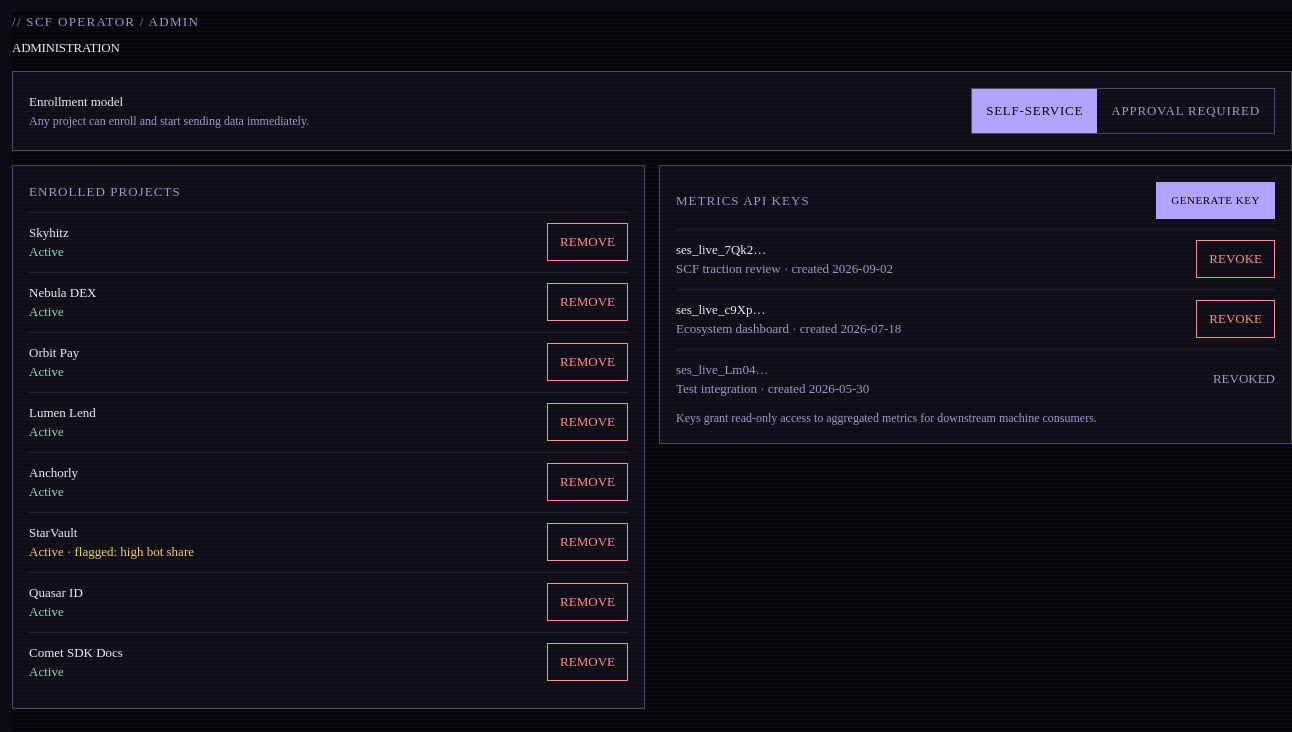
Test case: AdminScreen › shows a generated key once and lists it by prefix
Step 1. Click the button "Generate key" → (1216, 200), box [1156, 182, 1275, 218]
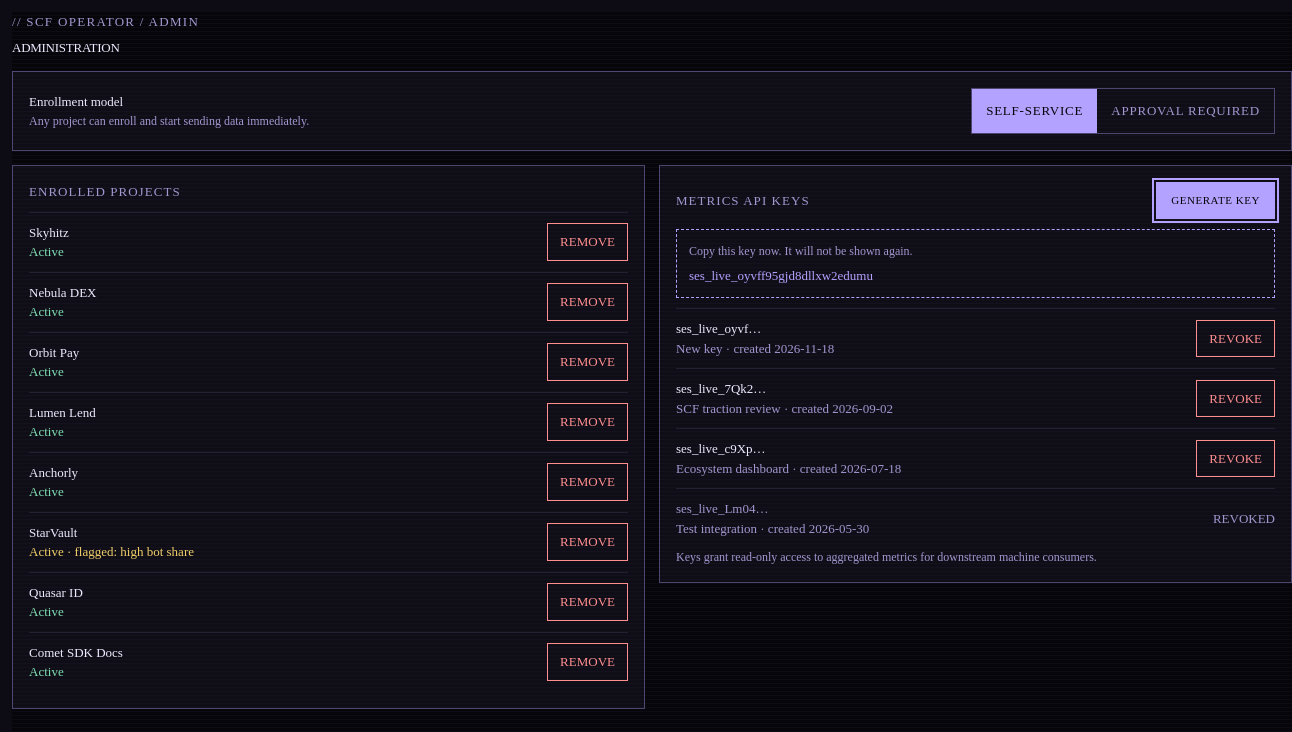
Expected: the text "Copy this key now. It will not be shown again." is shown, [689, 244, 912, 258]
Expected: the text "New key · created 2026-11-18" is shown, [676, 338, 834, 358]
